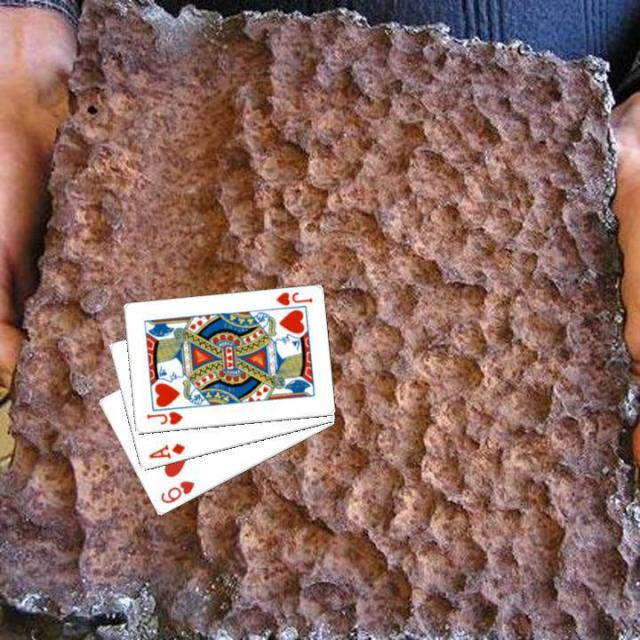6H: (156, 477, 196, 506)
AD: (145, 440, 187, 461)
JH: (143, 408, 184, 427), (272, 289, 314, 307)
